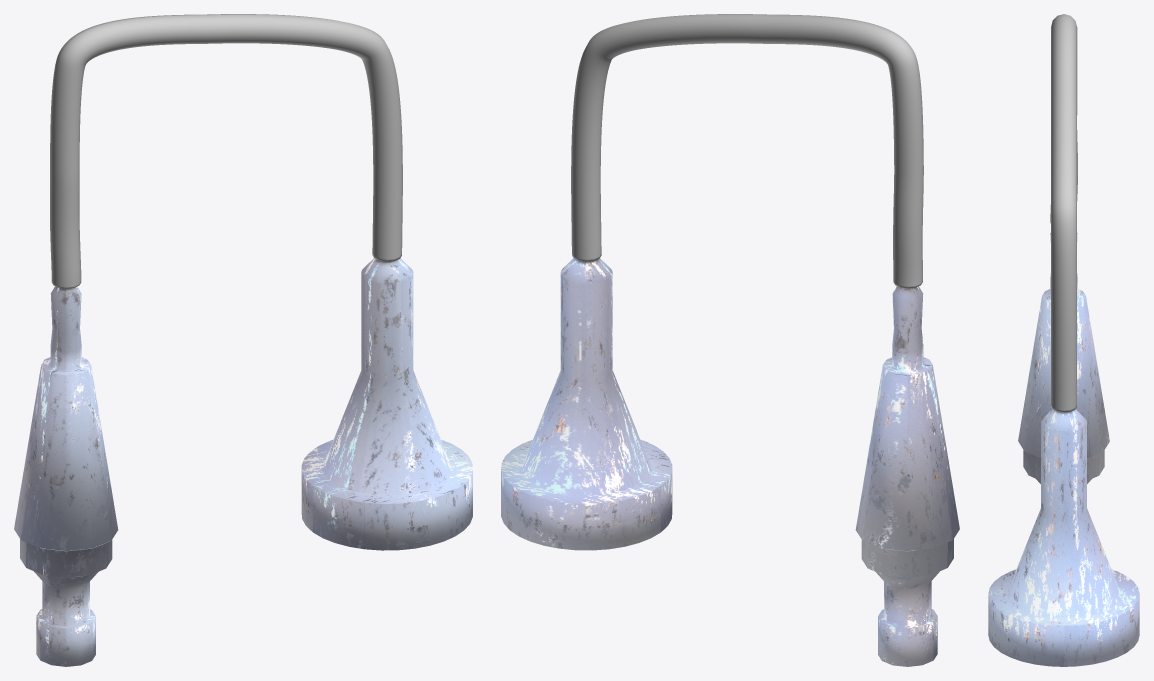
The model's file is Lola_3D.gltf.
The picture shows the model from 3 angles, left to right: view 1: azimuth 30°, elevation 25°; view 2: azimuth 150°, elevation 25°; view 3: azimuth 270°, elevation 25°; orthographic projection. The views are drawn at different scales.
Parts seen in each view (by area): view 1: Lola_3D; view 2: Lola_3D; view 3: Lola_3D.
Part boxes in pixels (x1,y1,x2,y2): Lola_3D: [14, 14, 472, 666]; Lola_3D: [501, 14, 959, 666]; Lola_3D: [988, 14, 1139, 666].
Bounding box in the file's own units: 3.53 × 4.75 × 1.19.
